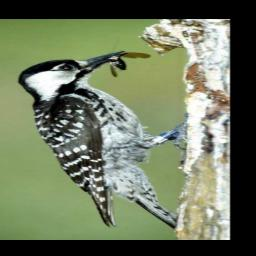Woodpecker: (16, 51, 178, 232)
